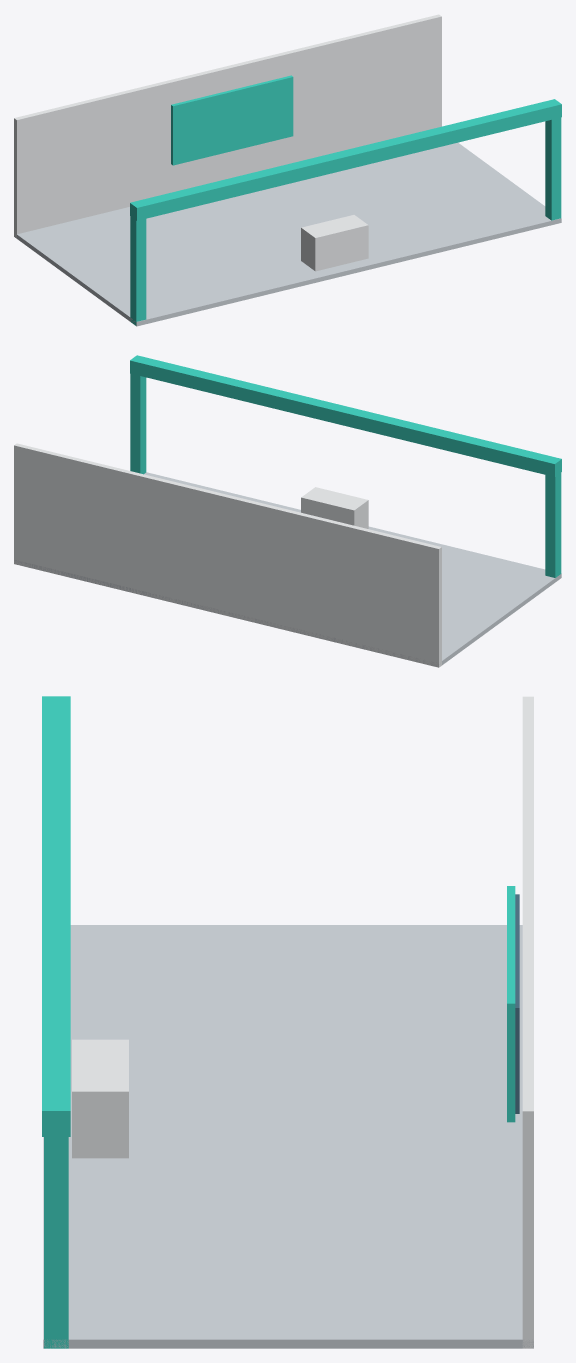
3 renders of one model, top to bottom at view 1: azimuth 30°, elevation 25°; view 2: azimuth 150°, elevation 25°; view 3: azimuth 270°, elevation 25°, orthographic. The views are drawn at different scales.
Parts seen in each view (by area): view 1: Exhibition Booth Concept; view 2: Exhibition Booth Concept; view 3: Exhibition Booth Concept.
Part boxes in pixels (<box>): Exhibition Booth Concept: <box>14,14,561,326</box>; Exhibition Booth Concept: <box>14,355,561,667</box>; Exhibition Booth Concept: <box>42,696,533,1348</box>.
Bounding box in the file's own units: 12 × 3.2 × 6.02.
